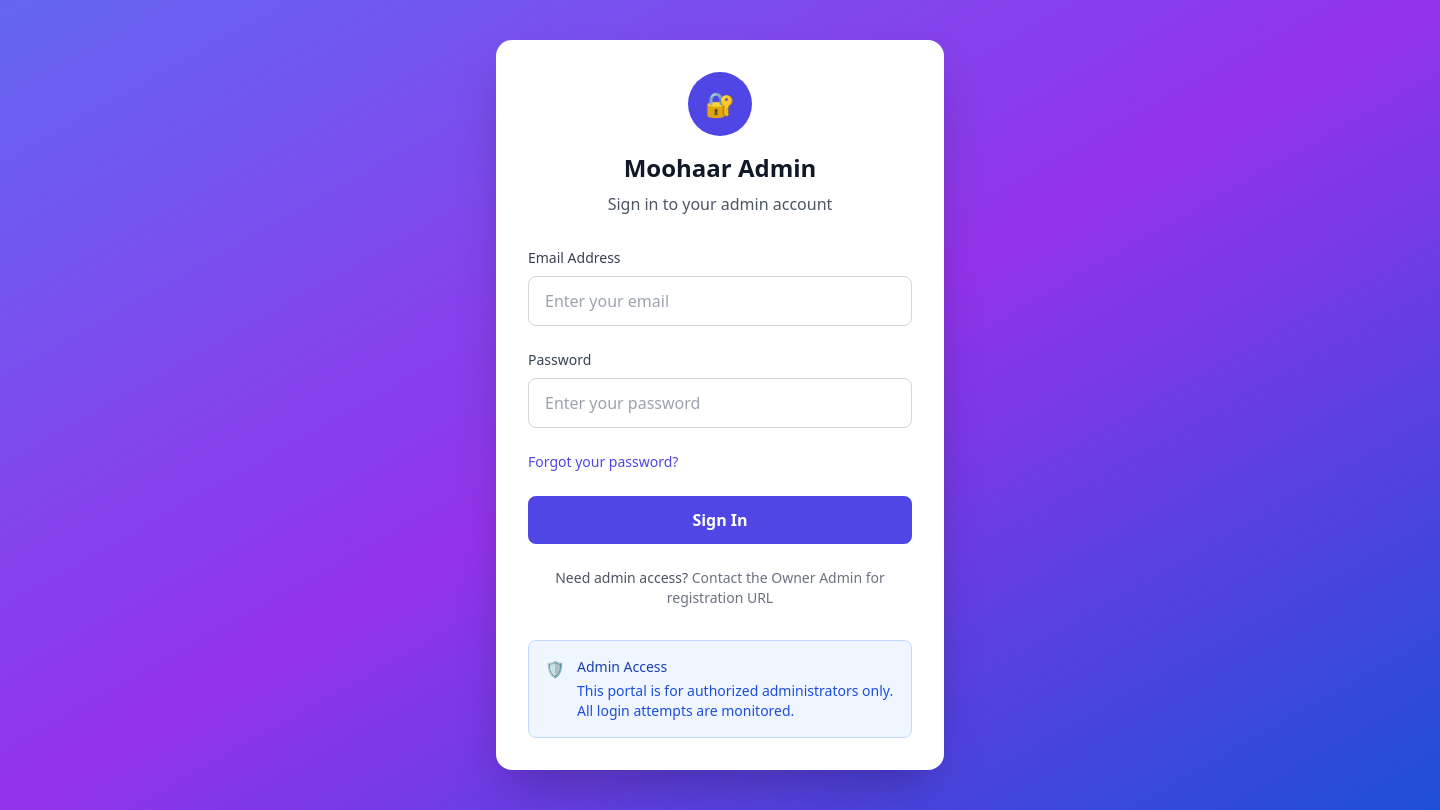
Admin Login › shows error message on login failure
Type "admin@example.com" into the field labelled "Email Address" at (720, 301), box [528,276,912,326]
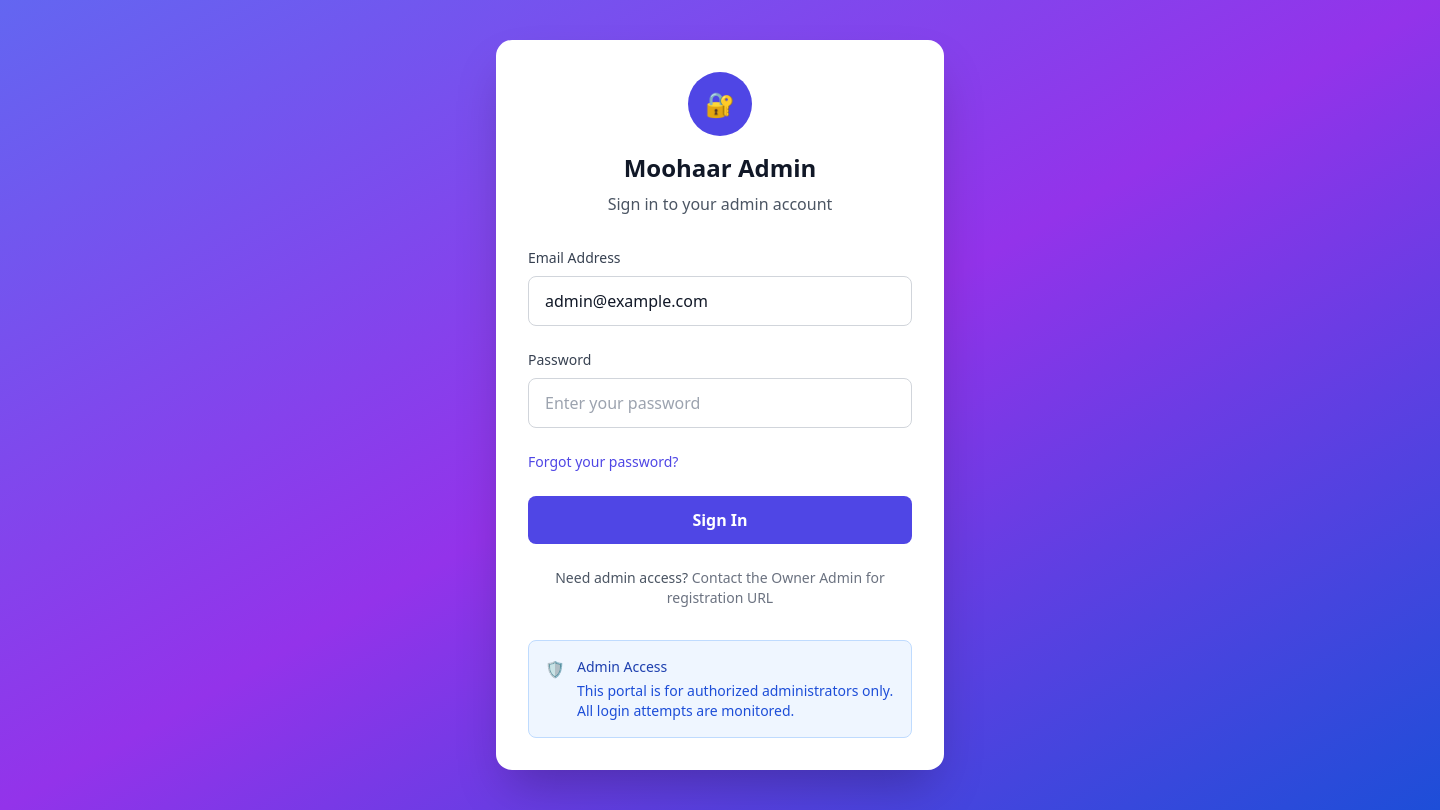
Type "wrongpassword" into the password field labelled "Password" at (720, 403), box [528,378,912,428]
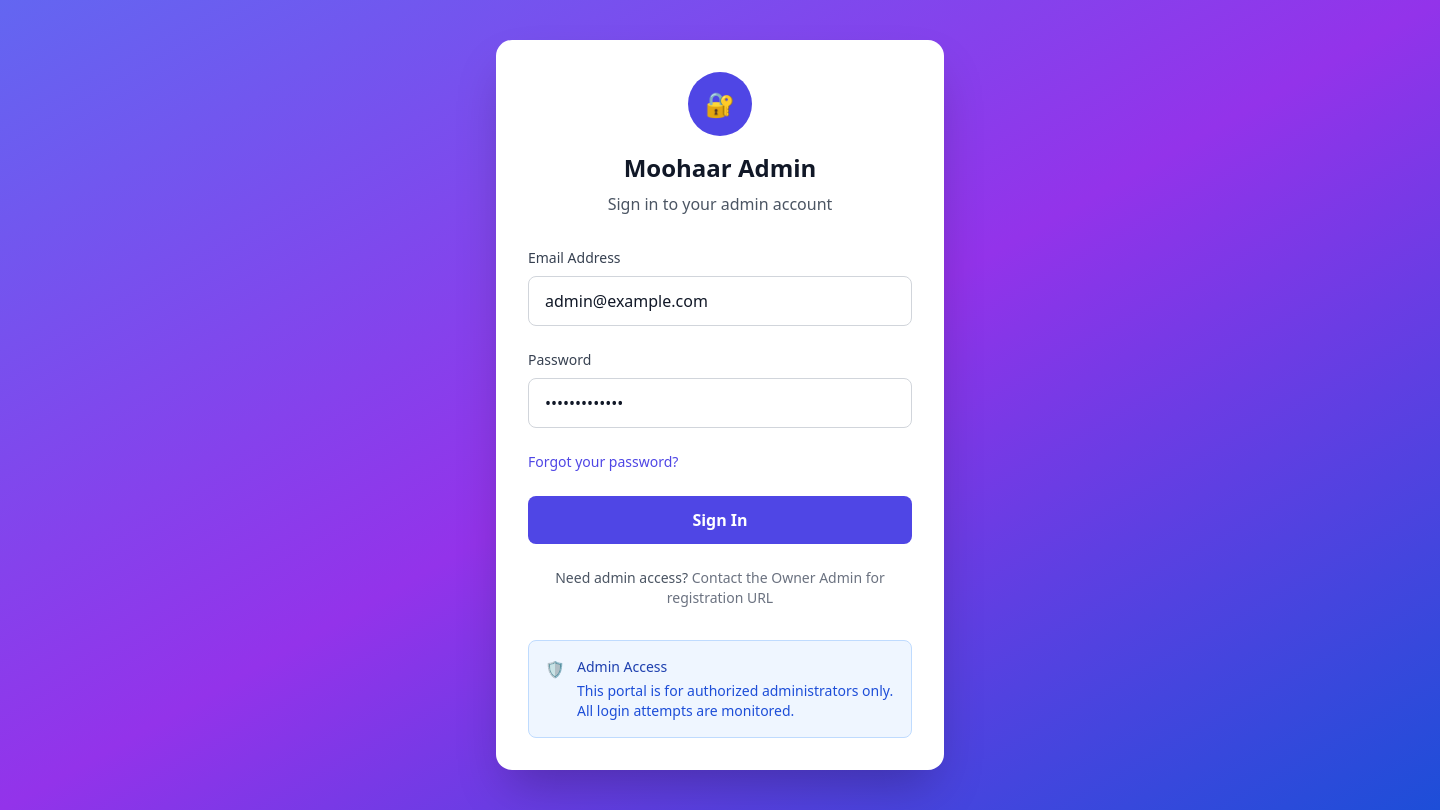
Click the button "Sign In" at (720, 520), box [528,496,912,544]
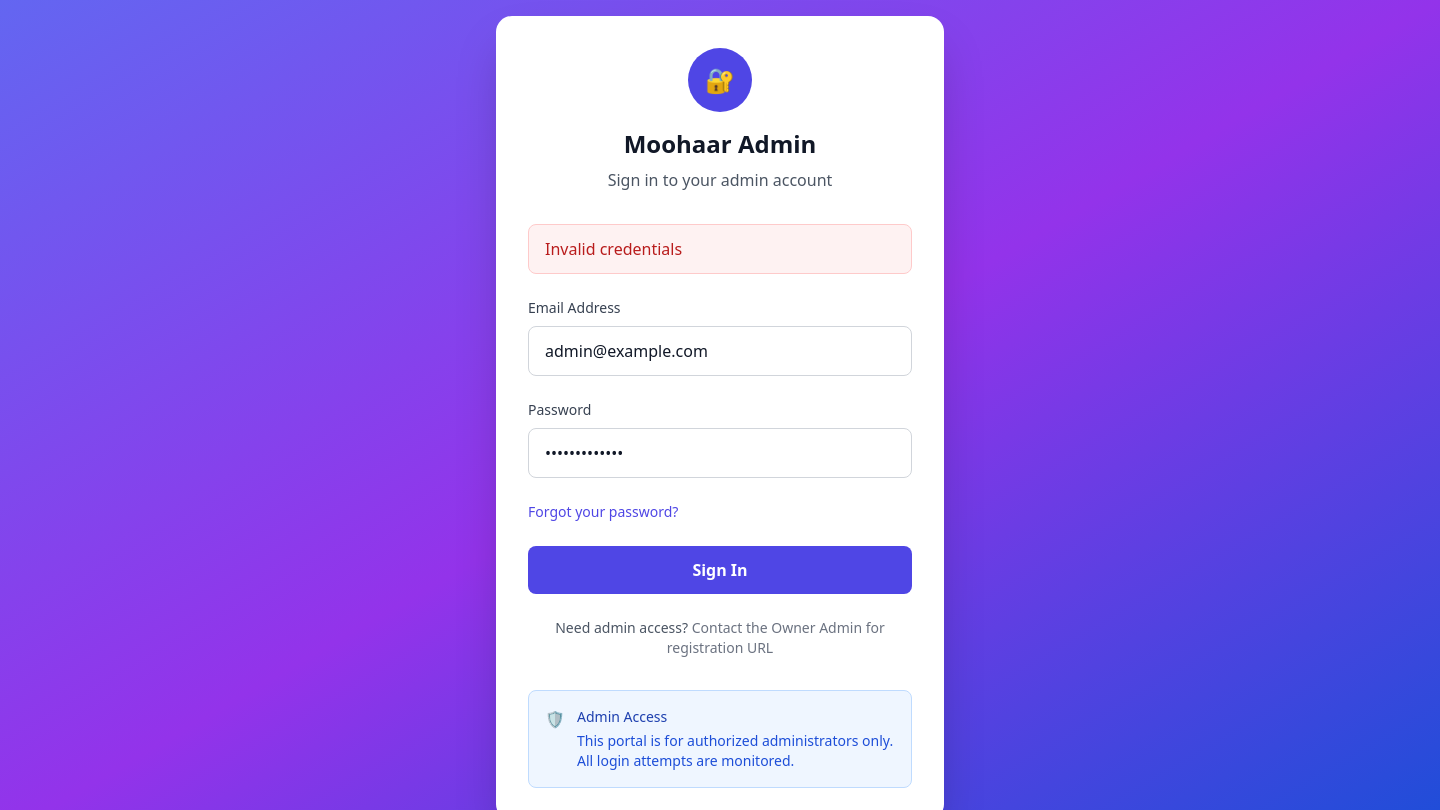
expect the text "Invalid credentials" is shown: met, box [528,224,912,274]
